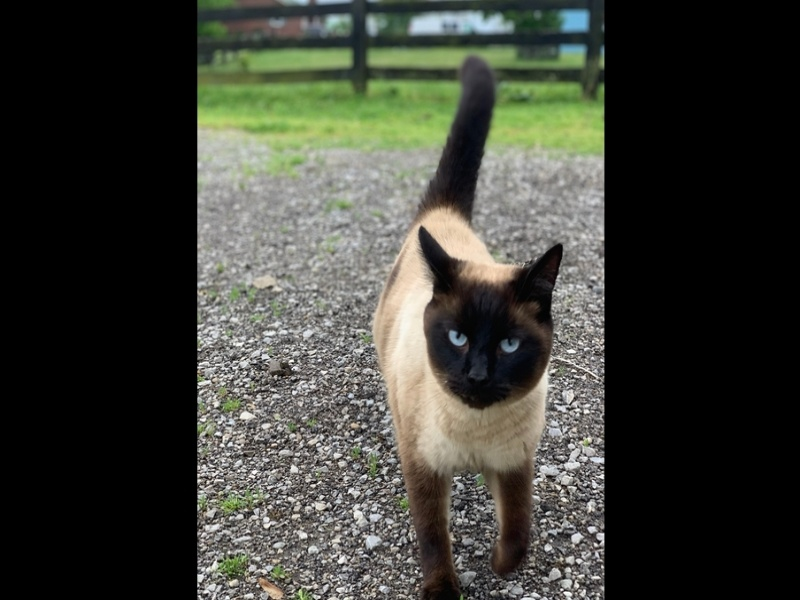cat: (363, 54, 564, 599)
